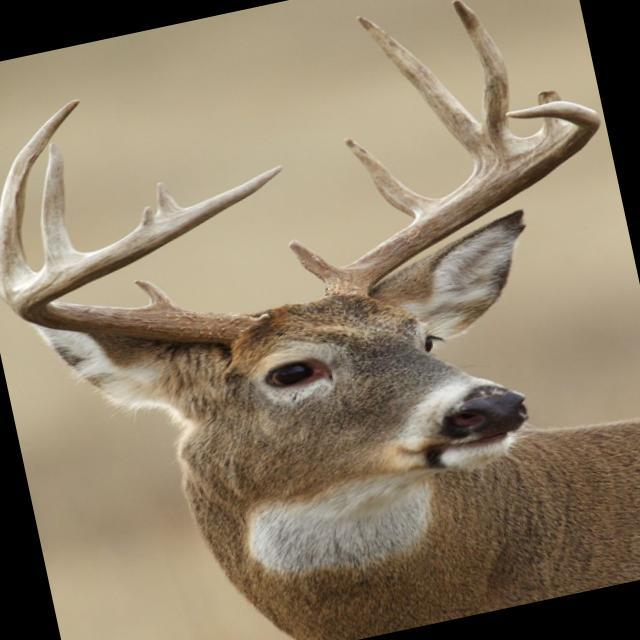E1: (140, 206, 155, 226)
E2: (155, 181, 184, 214)
L-F: (320, 100, 601, 299)
L-G1: (288, 239, 345, 282)
L-G2: (343, 136, 441, 218)
L-G3: (356, 14, 521, 165)
L-G4: (451, 0, 510, 132)
R-F: (10, 164, 282, 347)
R-G1: (133, 279, 177, 306)
R-G3: (0, 98, 81, 297)
R-G4: (39, 142, 83, 268)
